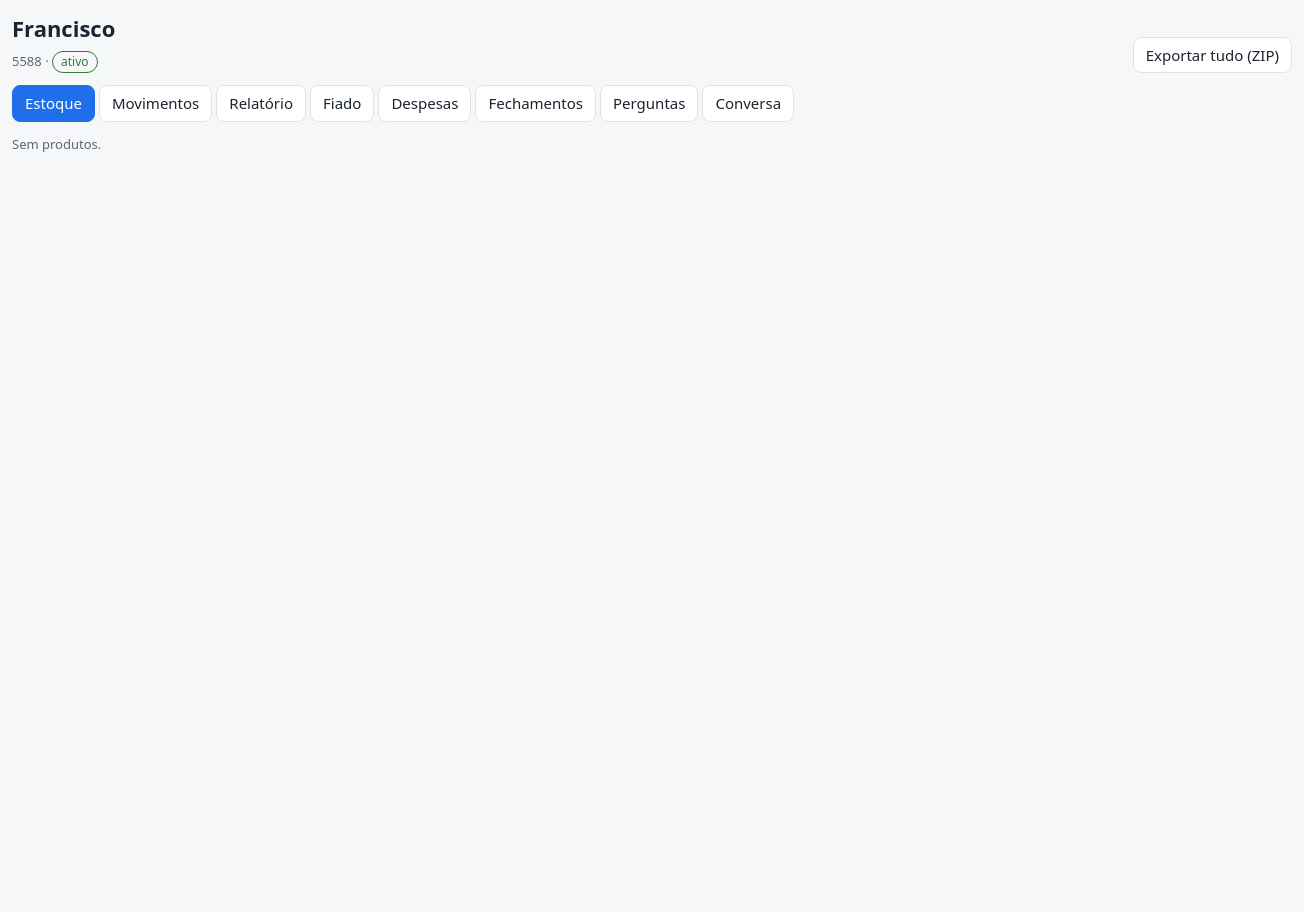
Test: relatório do caixa mostra os totais por meio e os dias com movimento
Click the tab "Relatório": [261, 103] box [216,85,306,122]
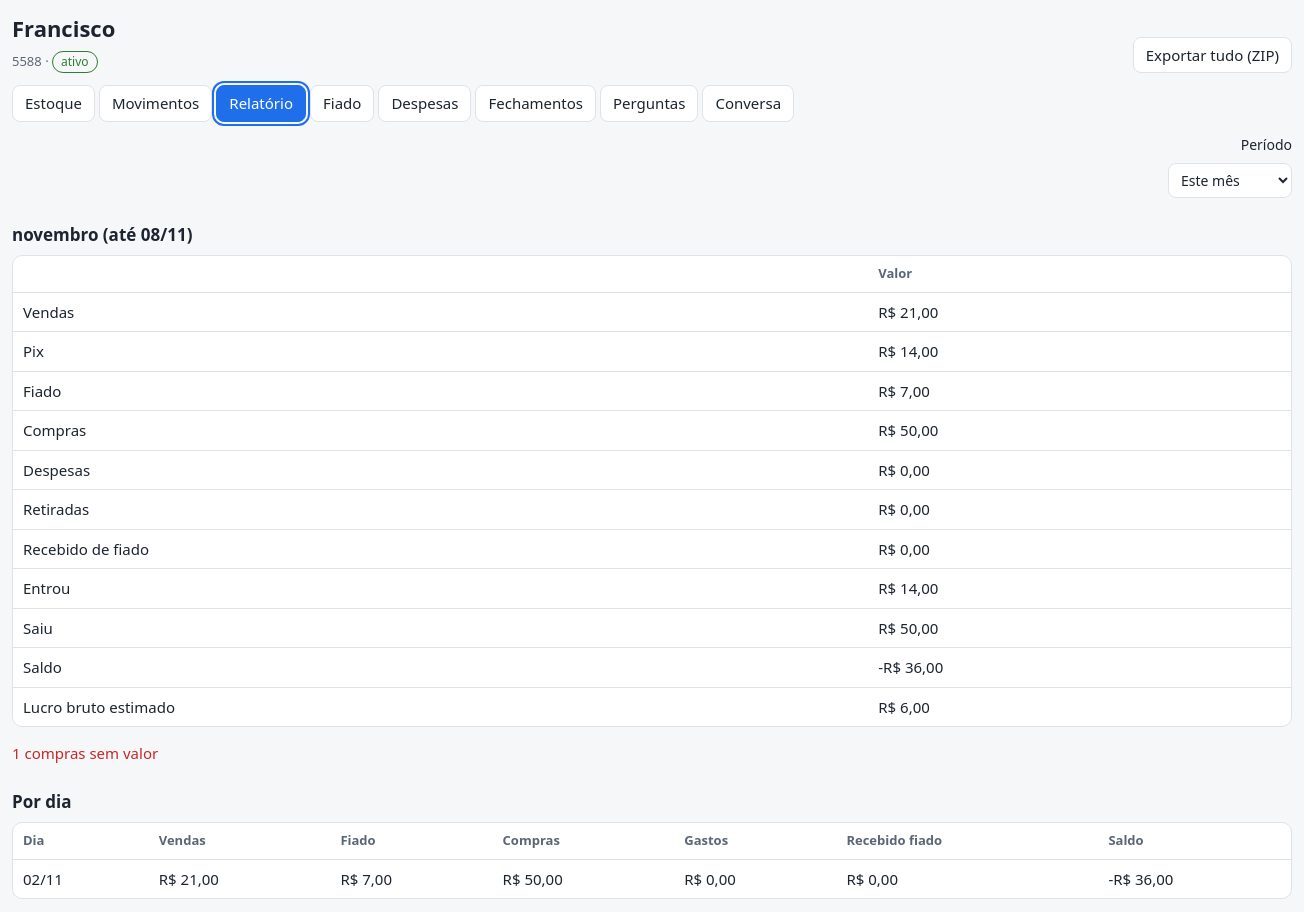
Now the heading "novembro (até 08/11)" is shown, box [12,222,192,246]
Now the text "1 compras sem valor" is shown, box [12,743,158,763]
Now the text "02/11" is shown, box [13,859,149,898]
